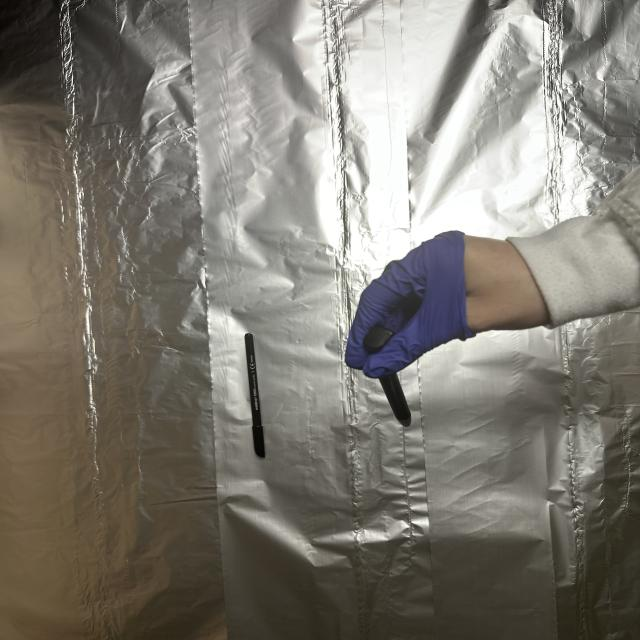glove_partial: (338, 228, 554, 378)
